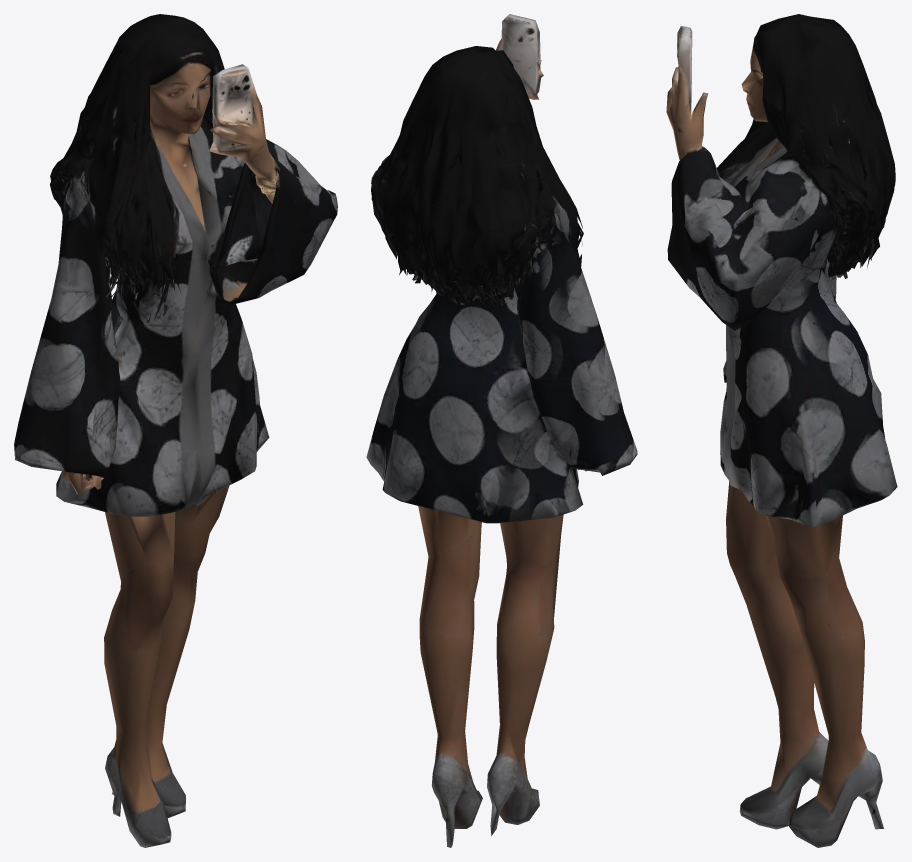
3 renders of one model, left to right at view 1: azimuth 30°, elevation 25°; view 2: azimuth 150°, elevation 25°; view 3: azimuth 270°, elevation 25°, orthographic. The views are drawn at different scales.
Bounding box in the file's own units: 0.7312 × 1.9 × 0.4842.
1 material, 1 textured.
